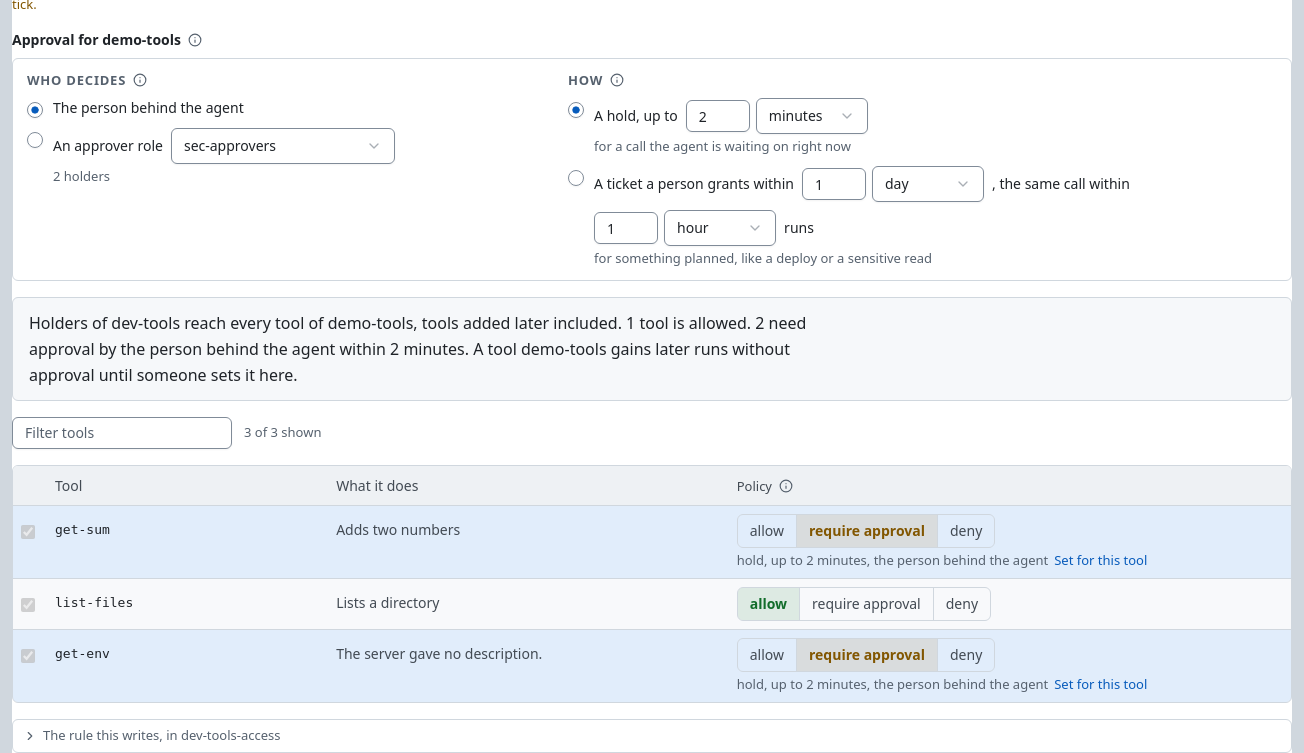
Test case: the access editor › gives one held tool its own approval, and takes it back
(page scrolled)
Click the 1st button "Set for this tool". click: (1101, 561)
box: x1=1054 y1=552 x2=1147 y2=570
(page scrolled)
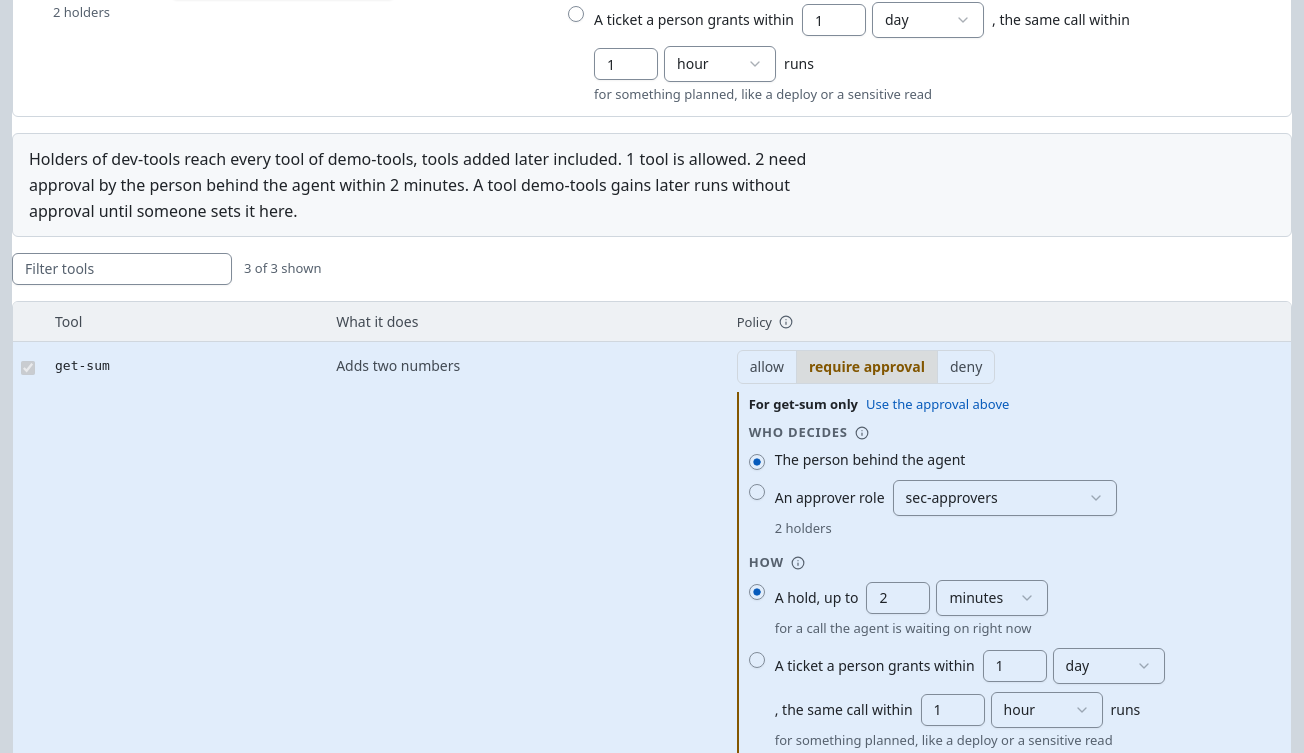
Click the radio button named "A ticket a person grants within" below "For get-sum only". click: (757, 660)
box: x1=749 y1=652 x2=765 y2=668
(page scrolled)
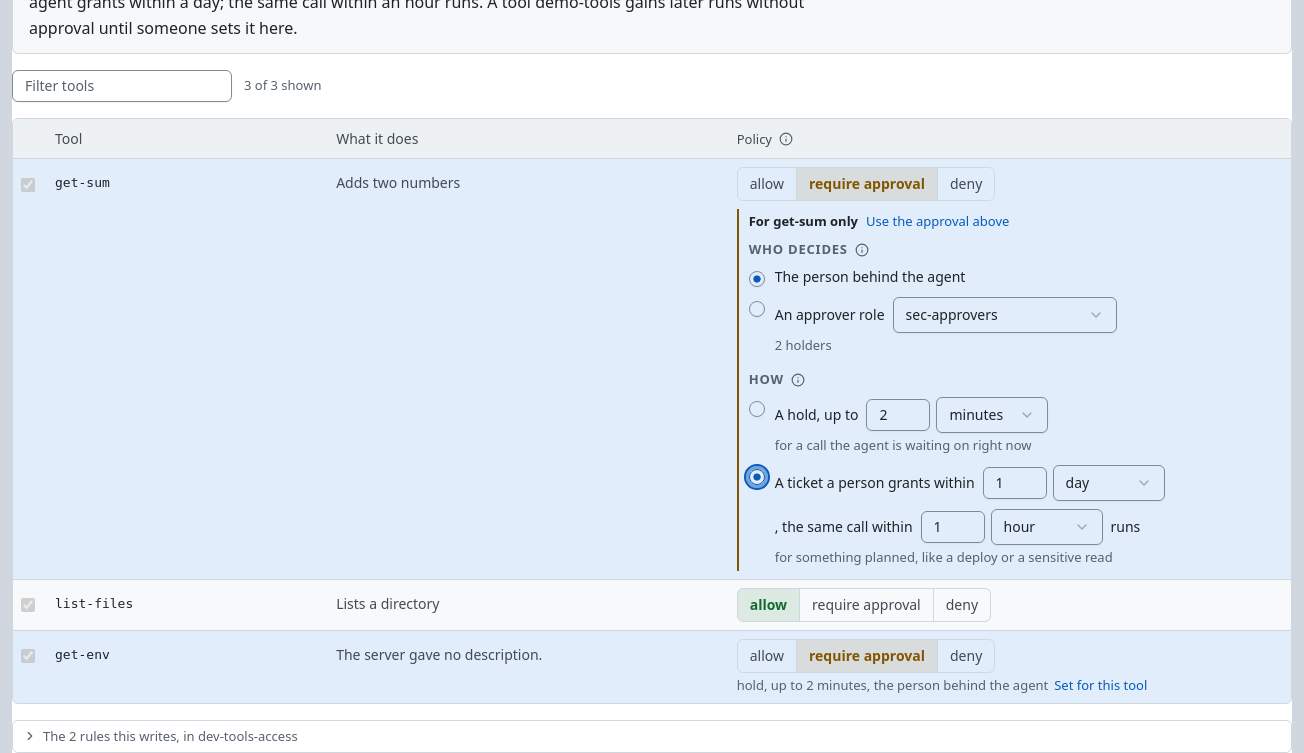
Click the button "The 2 rules this writes, in dev-tools-access". click: (170, 736)
box: x1=13 y1=720 x2=1291 y2=752
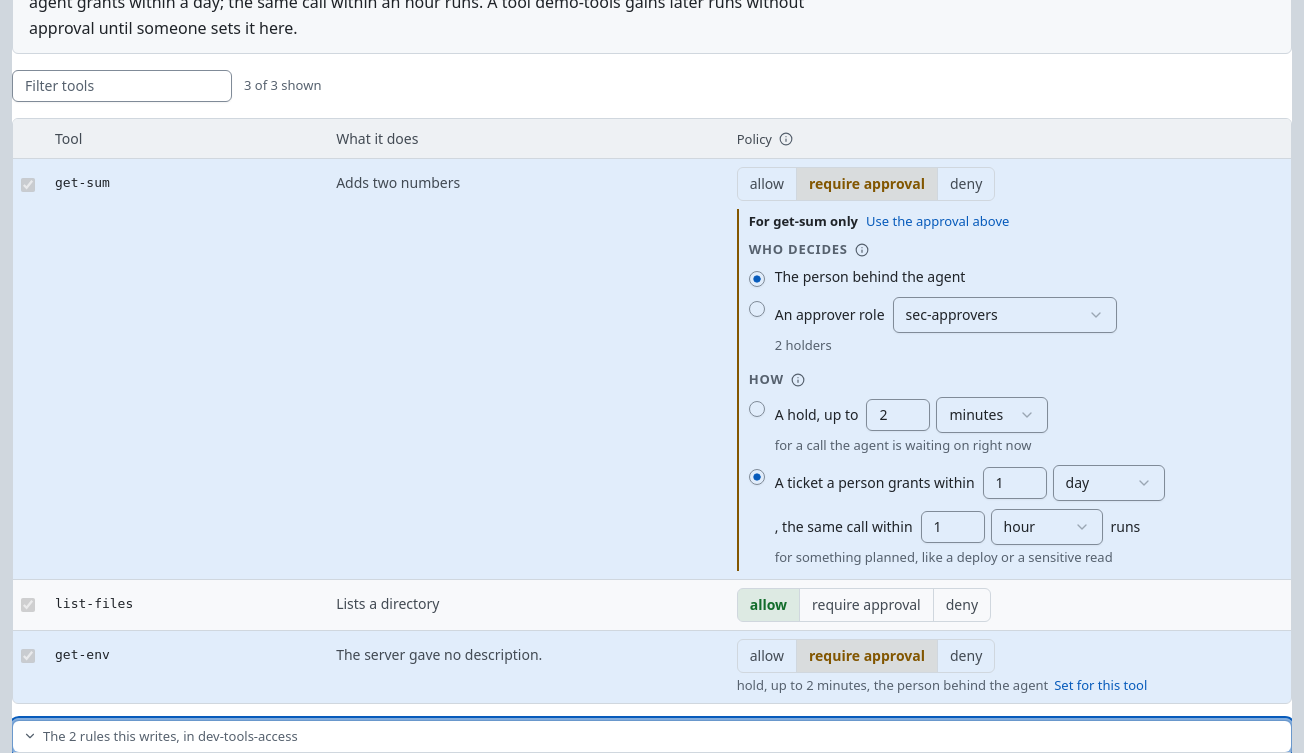
Click the button "Use the approval above". click: (938, 222)
box: x1=866 y1=213 x2=1009 y2=231
(page scrolled)
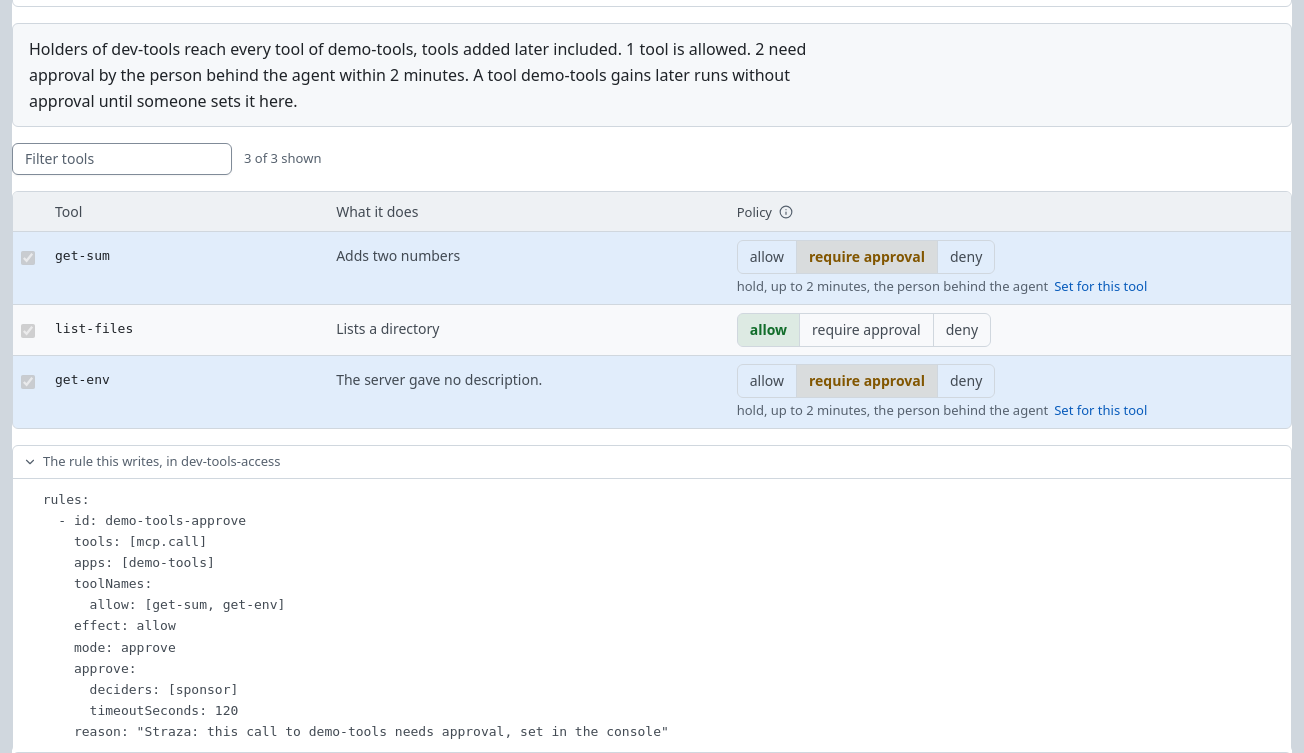
Check: the button "The rule this writes, in dev-tools-access" is shown, box x1=13 y1=446 x2=1291 y2=478
